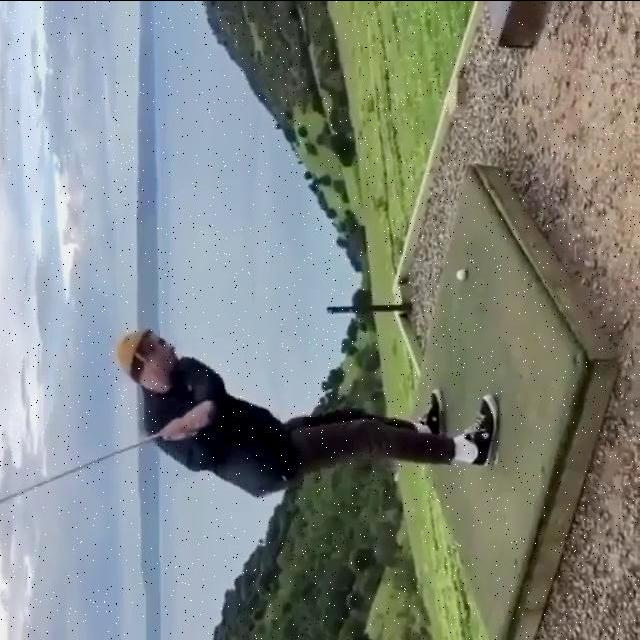golf ball: (457, 268, 468, 281)
golf club-handle: (0, 437, 154, 503)
